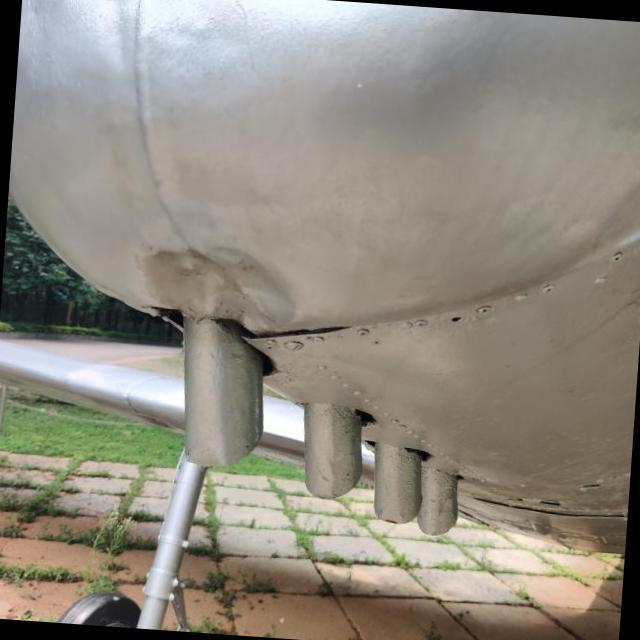Dent: (117, 219, 322, 358)
